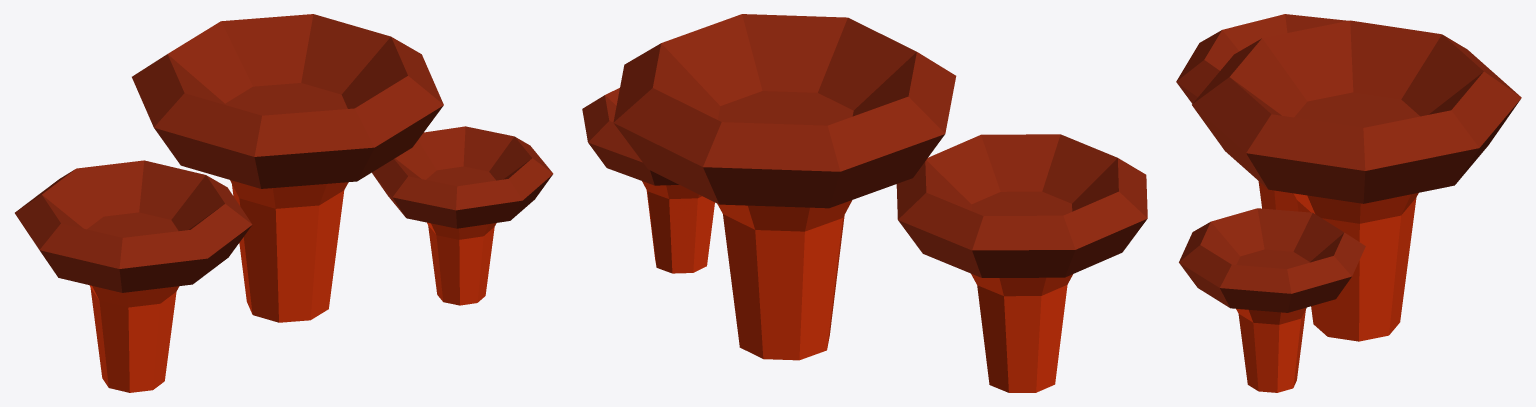
Rendered from Mushroom_02.obj.
3 views of the same model, side by side, from view 1: azimuth 30°, elevation 25°; view 2: azimuth 150°, elevation 25°; view 3: azimuth 270°, elevation 25° (orthographic). The views are drawn at different scales.
Visible parts, largest first — view 1: Mushroom_02_Cylinder.027; view 2: Mushroom_02_Cylinder.027; view 3: Mushroom_02_Cylinder.027.
Part boxes in pixels (x1,y1,x2,y2): Mushroom_02_Cylinder.027: (15,14,553,392); Mushroom_02_Cylinder.027: (582,14,1147,392); Mushroom_02_Cylinder.027: (1176,14,1521,392).
Bounding box in the file's own units: 2.19 × 1.06 × 1.28.
